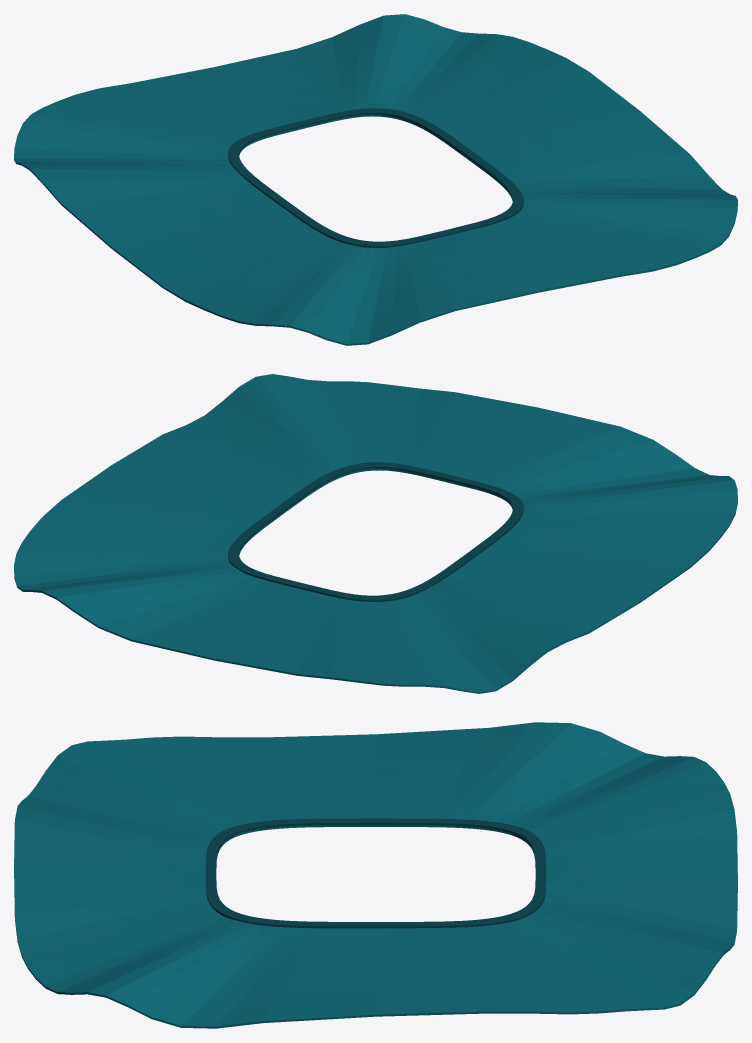
File: asset.fbx
3 renders of one model, top to bottom at view 1: azimuth 30°, elevation 25°; view 2: azimuth 150°, elevation 25°; view 3: azimuth 270°, elevation 25°, orthographic. The views are drawn at different scales.
Visible parts, largest first — view 1: radcare_waterproof_drape_fenestrated_waterproof_fabric, radcare_waterproof_drape_reinforced_opening; view 2: radcare_waterproof_drape_fenestrated_waterproof_fabric, radcare_waterproof_drape_reinforced_opening; view 3: radcare_waterproof_drape_fenestrated_waterproof_fabric, radcare_waterproof_drape_reinforced_opening.
Part boxes in pixels (<box>): radcare_waterproof_drape_fenestrated_waterproof_fabric: <box>14,14,737,345</box>; radcare_waterproof_drape_reinforced_opening: <box>228,108,523,247</box>; radcare_waterproof_drape_fenestrated_waterproof_fabric: <box>14,374,737,693</box>; radcare_waterproof_drape_reinforced_opening: <box>228,462,523,601</box>; radcare_waterproof_drape_fenestrated_waterproof_fabric: <box>14,722,737,1028</box>; radcare_waterproof_drape_reinforced_opening: <box>205,818,546,928</box>.
Size of the model in its own units: 0.32 by 0.012 by 0.34.
